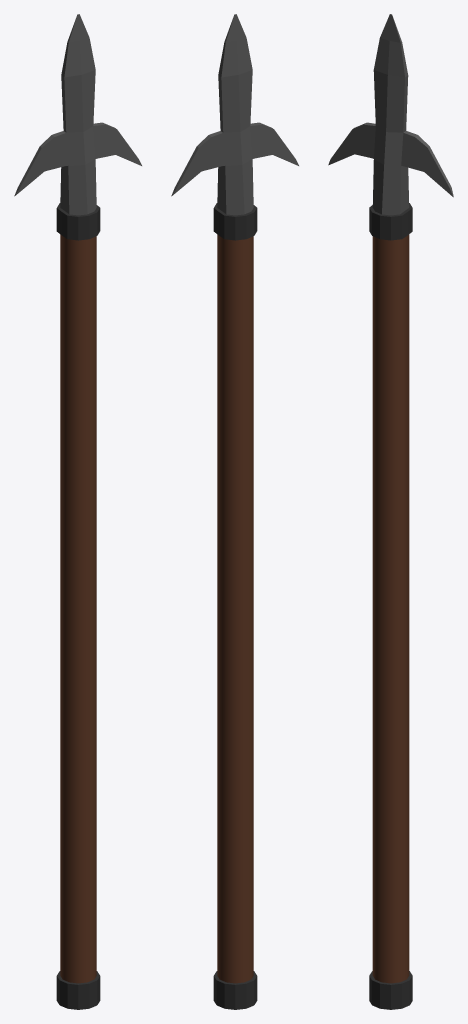
Rendered from Spear_002.fbx.
3 views of the same model, side by side, from view 1: azimuth 30°, elevation 25°; view 2: azimuth 210°, elevation 25°; view 3: azimuth 330°, elevation 25° (orthographic).
Visible parts, largest first — view 1: Spear.002; view 2: Spear.002; view 3: Spear.002.
Part boxes in pixels (x1,y1,x2,y2): Spear.002: (14, 14, 141, 1009); Spear.002: (171, 14, 298, 1009); Spear.002: (328, 14, 453, 1009).
Bounding box in the file's own units: 0.8697 × 6.48 × 0.259.
